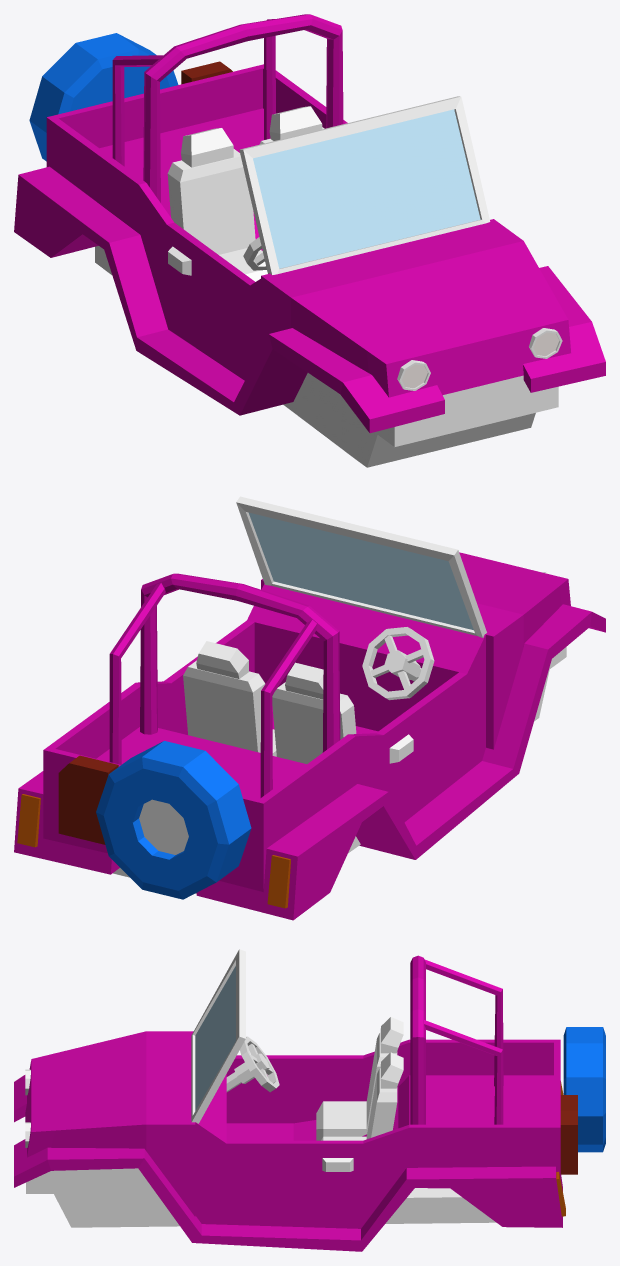
File: jeep.gltf
3 renders of one model, top to bottom at view 1: azimuth 30°, elevation 25°; view 2: azimuth 150°, elevation 25°; view 3: azimuth 270°, elevation 25°, orthographic. The views are drawn at different scales.
Visible parts, largest first — view 1: Jeep; view 2: Jeep; view 3: Jeep.
Part boxes in pixels (<box>): Jeep: <box>14,14,605,467</box>; Jeep: <box>14,496,605,920</box>; Jeep: <box>14,949,605,1251</box>.
Size of the model in its own units: 2.04 by 1.86 by 4.56.
